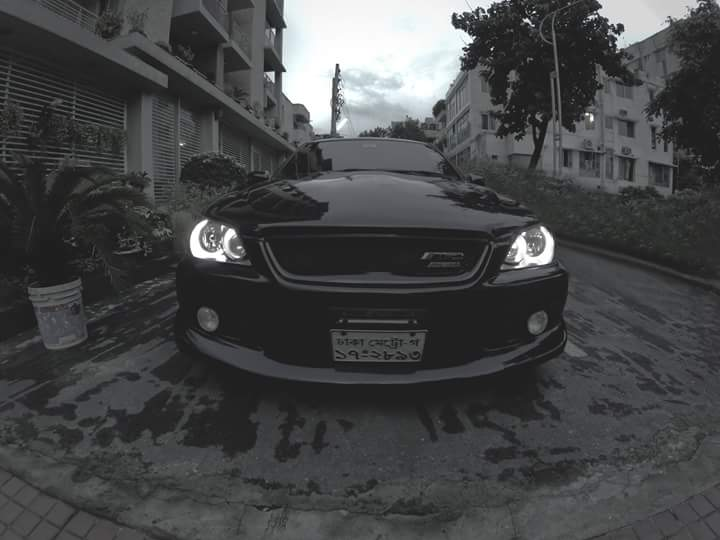registration_plate: (328, 329, 428, 364)
